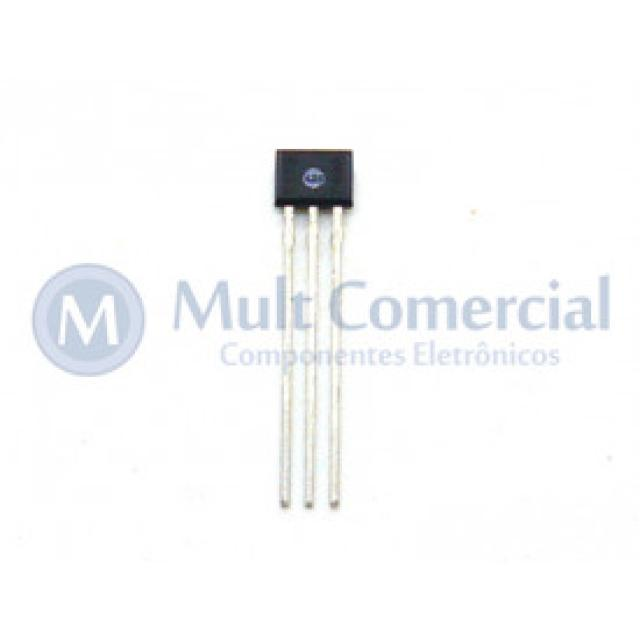Transistor: (272, 149, 358, 515)
